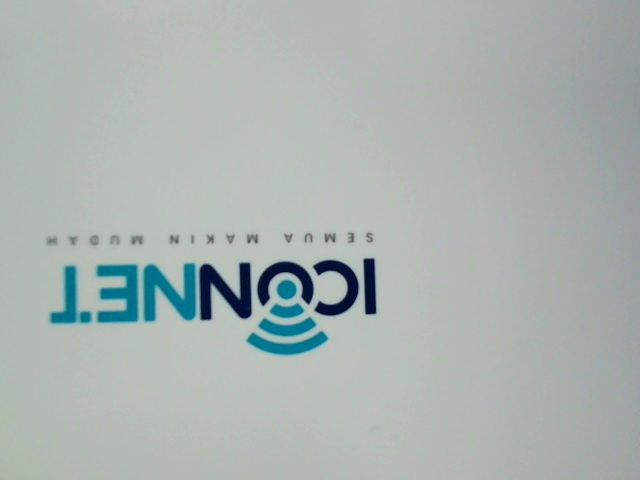BM_ICONNET: (28, 224, 408, 366)
